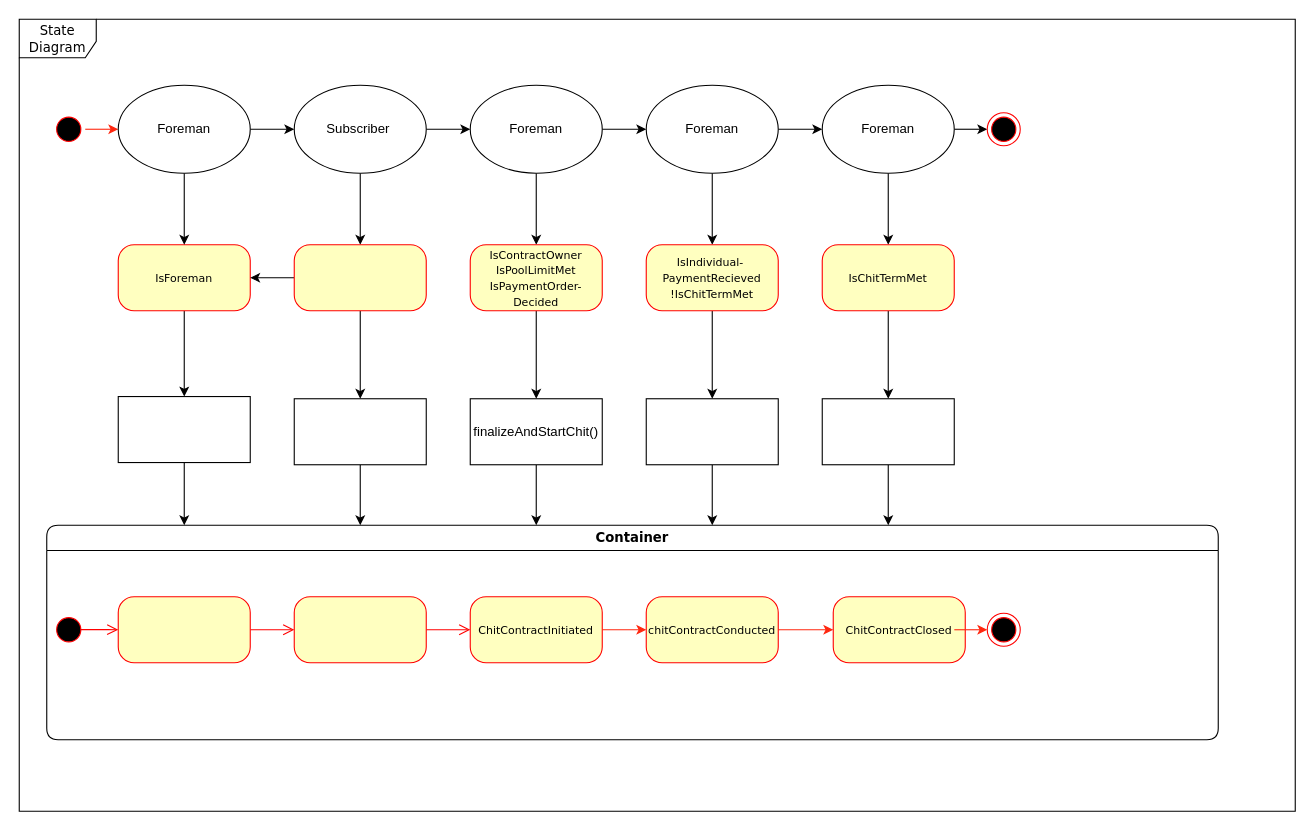
The diagram is 1315 pixels wide and 831 high, and some of its shapes have lost their labels. The shapes that lost their labels are listed below. From the top down, each one's centre as x and y in pixels, then its label:
point 359,277: IsInvited IsAcceptedBy- Foreman
point 183,429: createChit()
point 359,431: joinChit()
point 711,431: ConductChitMonthly()
point 887,431: CloseChit()
point 183,629: Chit Contract Created
point 359,629: SubscribersAdded
